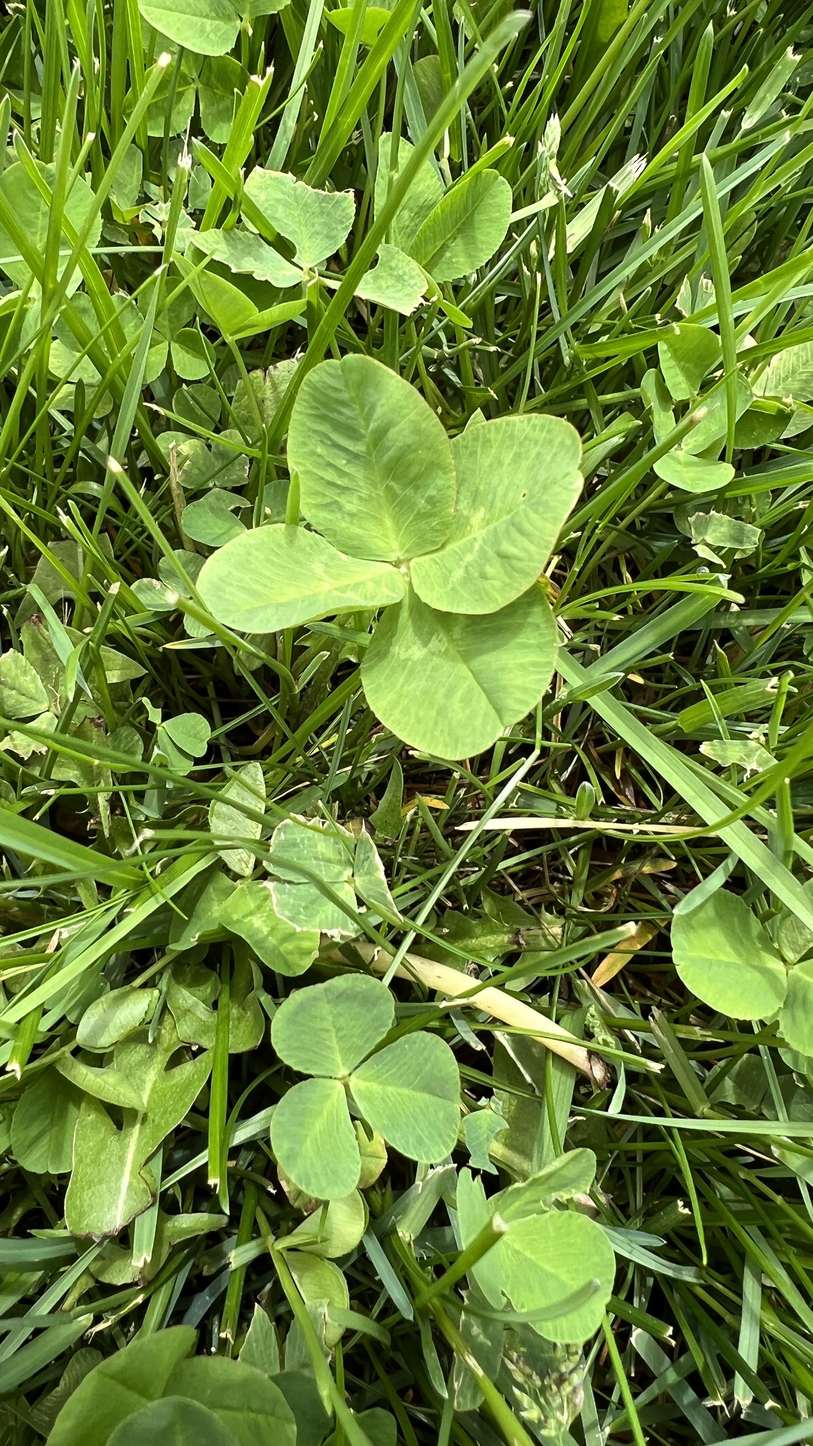4-Leaf-Clovers: (205, 404, 425, 1080)
